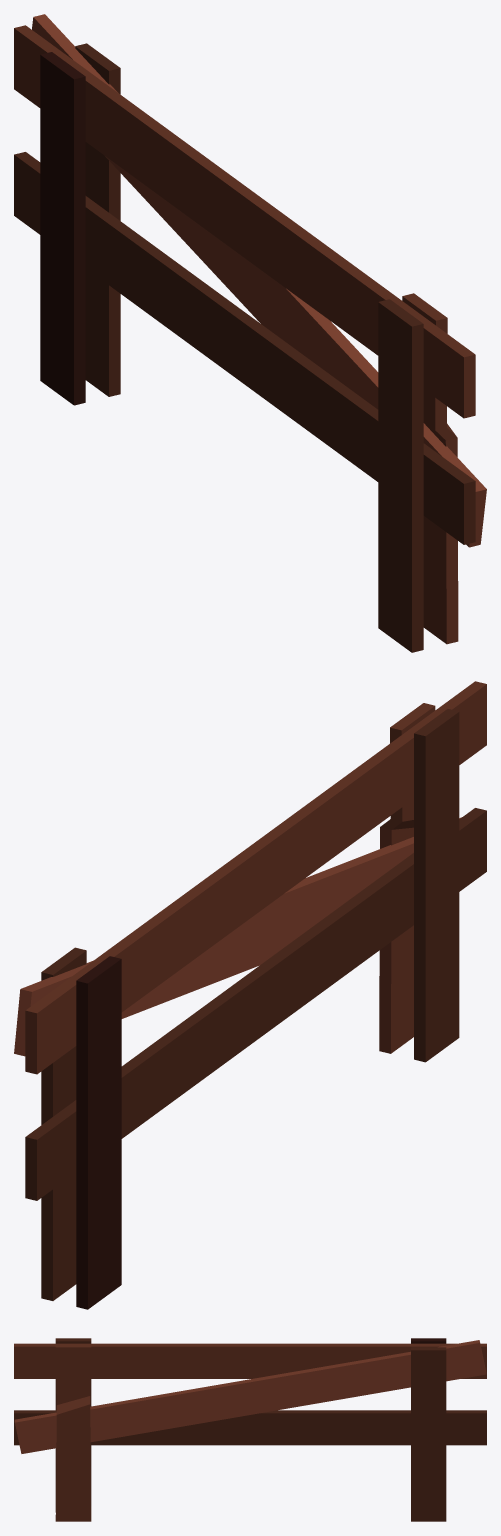
The model's file is SM_Barriers_16.fbx.
3 renders of one model, top to bottom at view 1: azimuth 30°, elevation 25°; view 2: azimuth 150°, elevation 25°; view 3: azimuth 270°, elevation 25°, orthographic. The views are drawn at different scales.
Parts seen in each view (by area): view 1: SM_Barriers_16; view 2: SM_Barriers_16; view 3: SM_Barriers_16.
Part boxes in pixels (bbox=[...]): SM_Barriers_16: bbox=[14, 14, 486, 652]; SM_Barriers_16: bbox=[14, 681, 486, 1309]; SM_Barriers_16: bbox=[14, 1338, 486, 1521].
Bounding box in the file's own units: 11.94 × 82.15 × 200.
